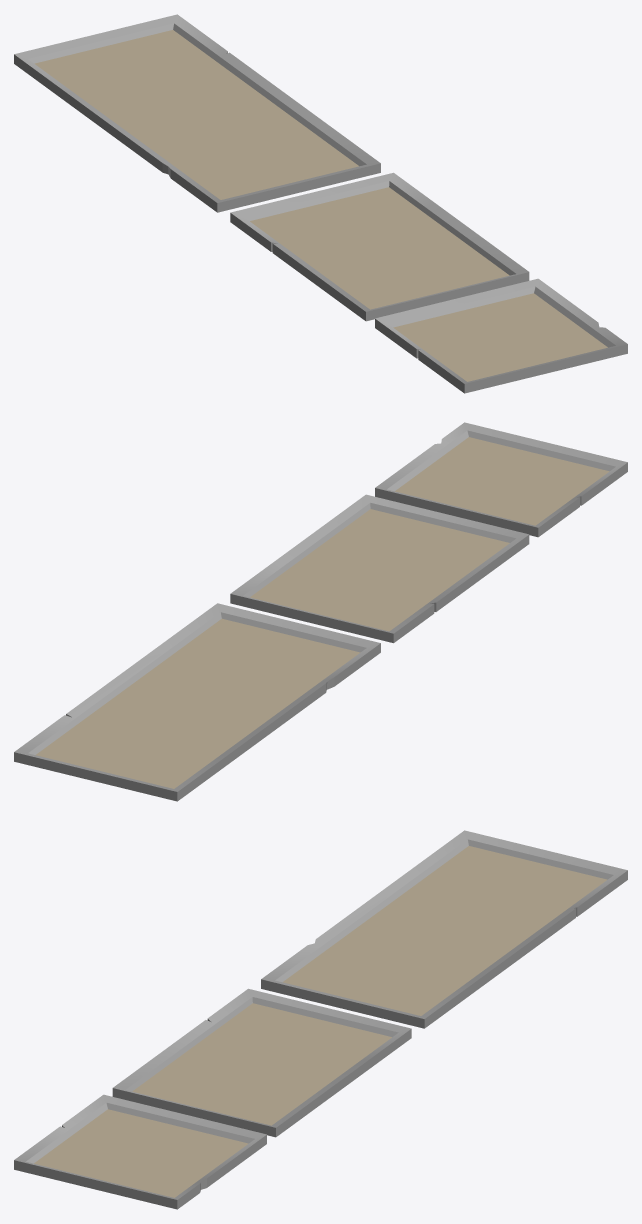
The model's file is Paintings.fbx.
3 renders of one model, top to bottom at view 1: azimuth 30°, elevation 25°; view 2: azimuth 150°, elevation 25°; view 3: azimuth 330°, elevation 25°, orthographic.
Visible parts, largest first — view 1: PaintingLarge, PaintingMedium, PaintingSmall; view 2: PaintingLarge, PaintingMedium, PaintingSmall; view 3: PaintingLarge, PaintingMedium, PaintingSmall.
Part boxes in pixels (box(x1,y1,x2,y2)): PaintingLarge: box(14, 14, 380, 212); PaintingMedium: box(230, 172, 529, 321); PaintingSmall: box(375, 278, 627, 393); PaintingLarge: box(14, 603, 380, 801); PaintingMedium: box(230, 494, 529, 643); PaintingSmall: box(375, 422, 627, 537); PaintingLarge: box(261, 830, 627, 1028); PaintingMedium: box(112, 988, 411, 1137); PaintingSmall: box(14, 1094, 266, 1209).
Size of the model in its own units: 0.0167 by 0.00095 by 0.0797.
